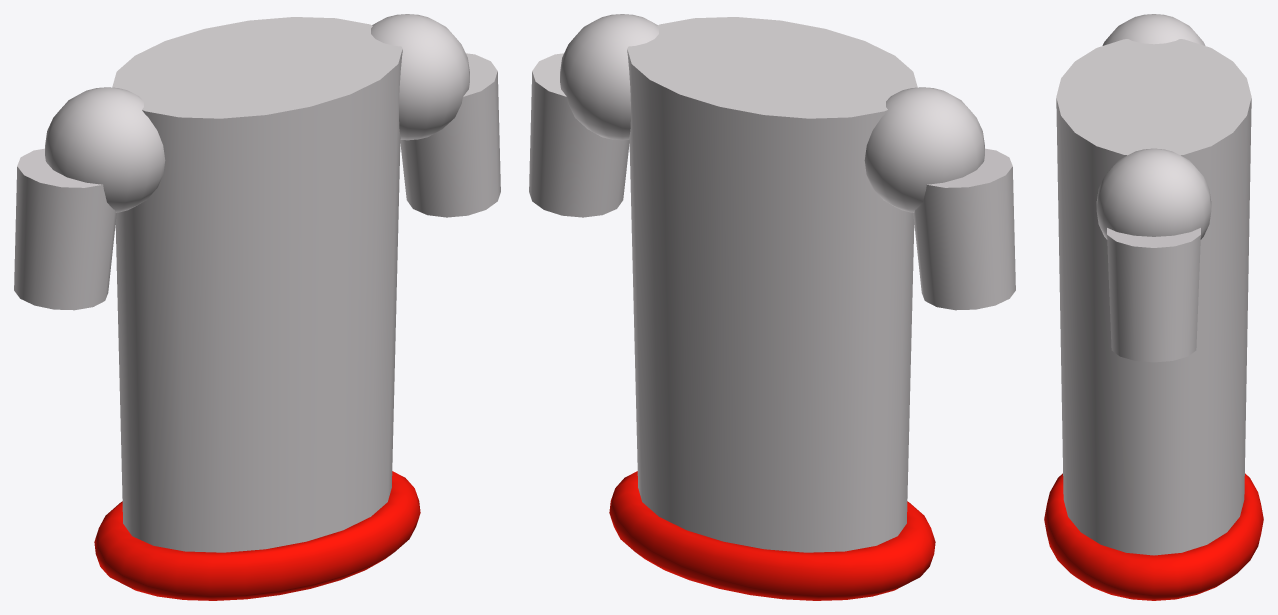
Rendered from top_cute_0.glb.
The picture shows the model from 3 angles, left to right: view 1: azimuth 30°, elevation 25°; view 2: azimuth 150°, elevation 25°; view 3: azimuth 270°, elevation 25°; orthographic projection. The views are drawn at different scales.
Bounding box in the file's own units: 0.6482 × 0.6435 × 0.2829.
